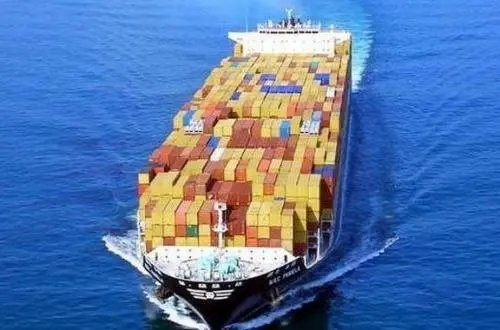Cargoship: (132, 8, 367, 327)
